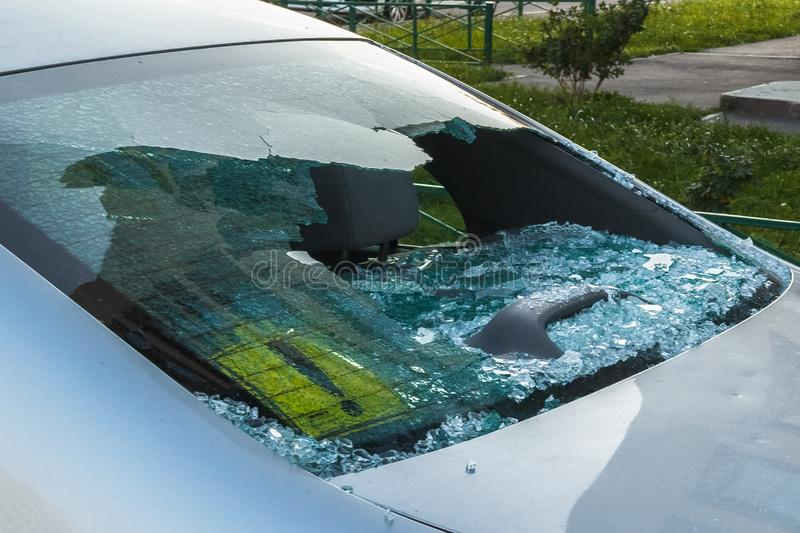Rear-windscreen-Damage: (0, 18, 799, 517)
